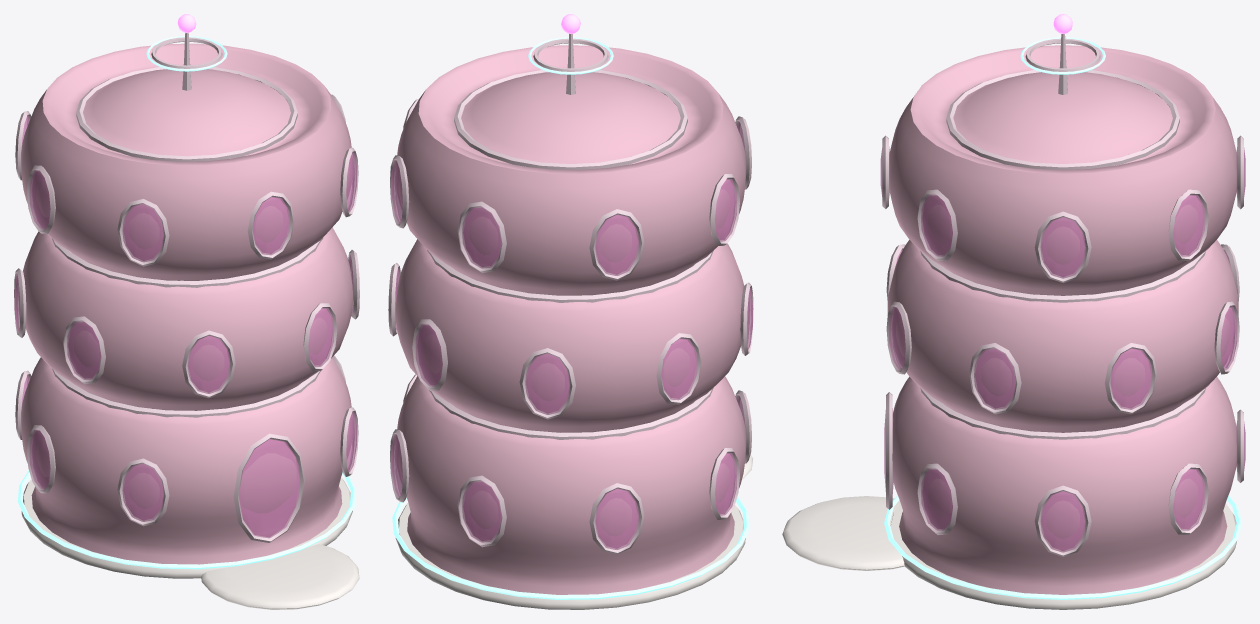
Rendered from building_bubble.glb.
The picture shows the model from 3 angles, left to right: view 1: azimuth 30°, elevation 25°; view 2: azimuth 150°, elevation 25°; view 3: azimuth 270°, elevation 25°; orthographic projection. The views are drawn at different scales.
Parts seen in each view (by area): view 1: building_bubble; view 2: building_bubble; view 3: building_bubble.
Boxes of the visible parts, bbox=[...] form: building_bubble: bbox=[14, 14, 359, 609]; building_bubble: bbox=[388, 14, 753, 609]; building_bubble: bbox=[782, 14, 1245, 609].
Size of the model in its own units: 7.24 by 11.45 by 9.2.
